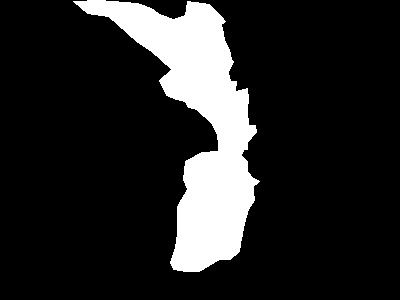Fire: (141, 1, 256, 272)
